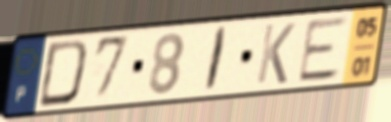7: (91, 33, 134, 105)
8: (147, 31, 187, 97)
D: (35, 36, 92, 110)
E: (295, 14, 352, 86)
I: (201, 24, 231, 95)
K: (254, 21, 298, 87)
